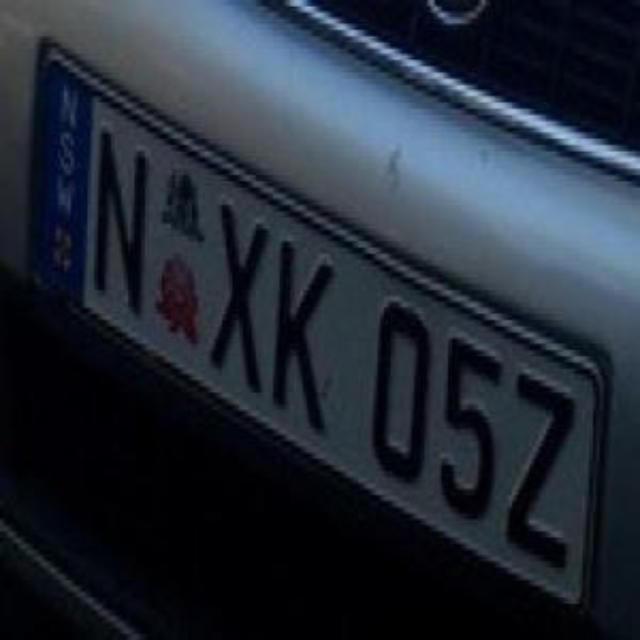License Plate: (25, 15, 603, 625)
